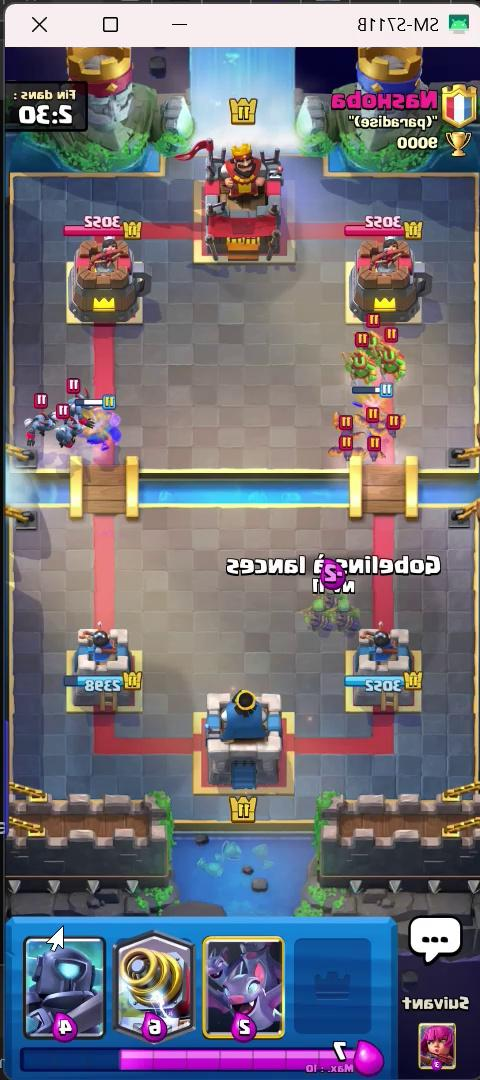bat: (379, 412, 411, 446), (326, 436, 365, 463), (330, 412, 364, 440), (354, 404, 385, 432), (361, 434, 388, 464)
chevalier: (67, 401, 125, 458)
gargouille: (21, 408, 59, 448), (58, 390, 91, 427), (53, 417, 84, 449)
gobelin_lances: (337, 348, 375, 388), (374, 346, 408, 382), (331, 600, 364, 636), (303, 600, 334, 635), (354, 328, 386, 358), (311, 580, 349, 599)
valkyrie: (352, 395, 384, 422)
